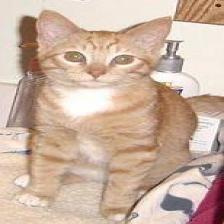cat: (24, 6, 178, 90)
